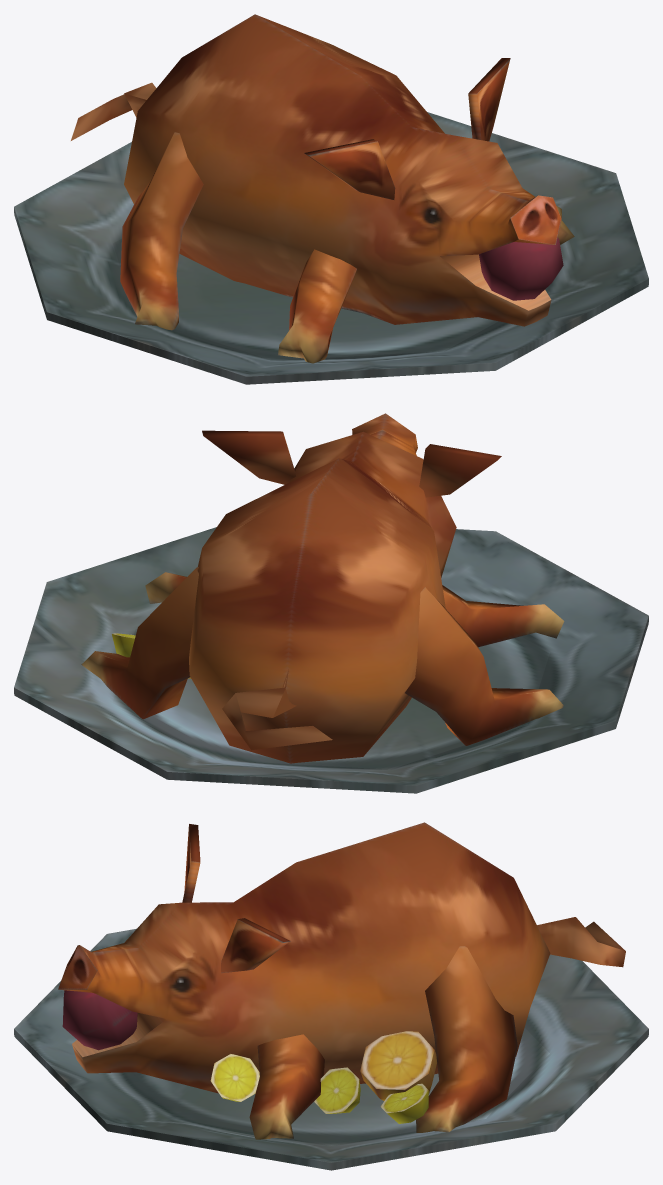
The model's file is LechonPork_01.glb.
3 renders of one model, top to bottom at view 1: azimuth 30°, elevation 25°; view 2: azimuth 150°, elevation 25°; view 3: azimuth 270°, elevation 25°, orthographic. The views are drawn at different scales.
Visible parts, largest first — view 1: LechonPork_01; view 2: LechonPork_01; view 3: LechonPork_01.
Part boxes in pixels (x1,y1,x2,y2): LechonPork_01: (14,14,648,384); LechonPork_01: (14,413,648,793); LechonPork_01: (14,822,648,1170).
Size of the model in its own units: 2.39 by 1.08 by 2.39.
Materials: 1 (1 with a texture image).
